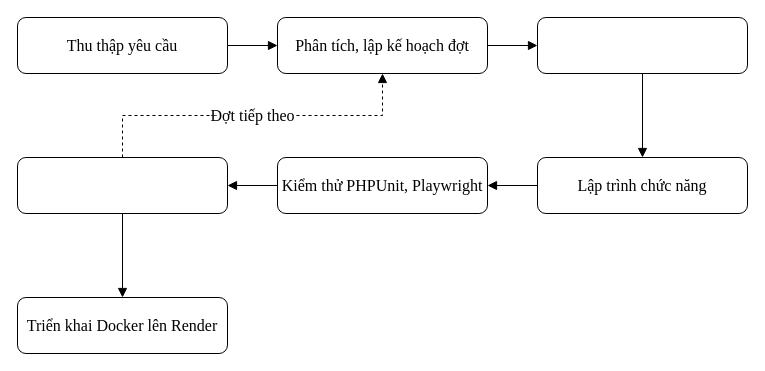
This 765x371 diagram has some shape labels left out. The centre of each missing label's shape, as x and y in pixels:
"Thiết kế giao diện, CSDL" belongs at point (642, 45).
"Đánh giá, nhận phản hồi" belongs at point (122, 185).
